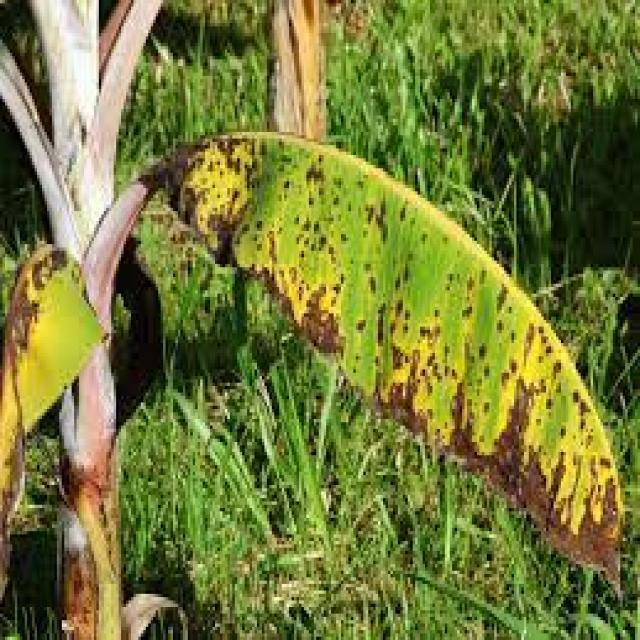Early_rust: (115, 134, 640, 579), (0, 224, 96, 523)
